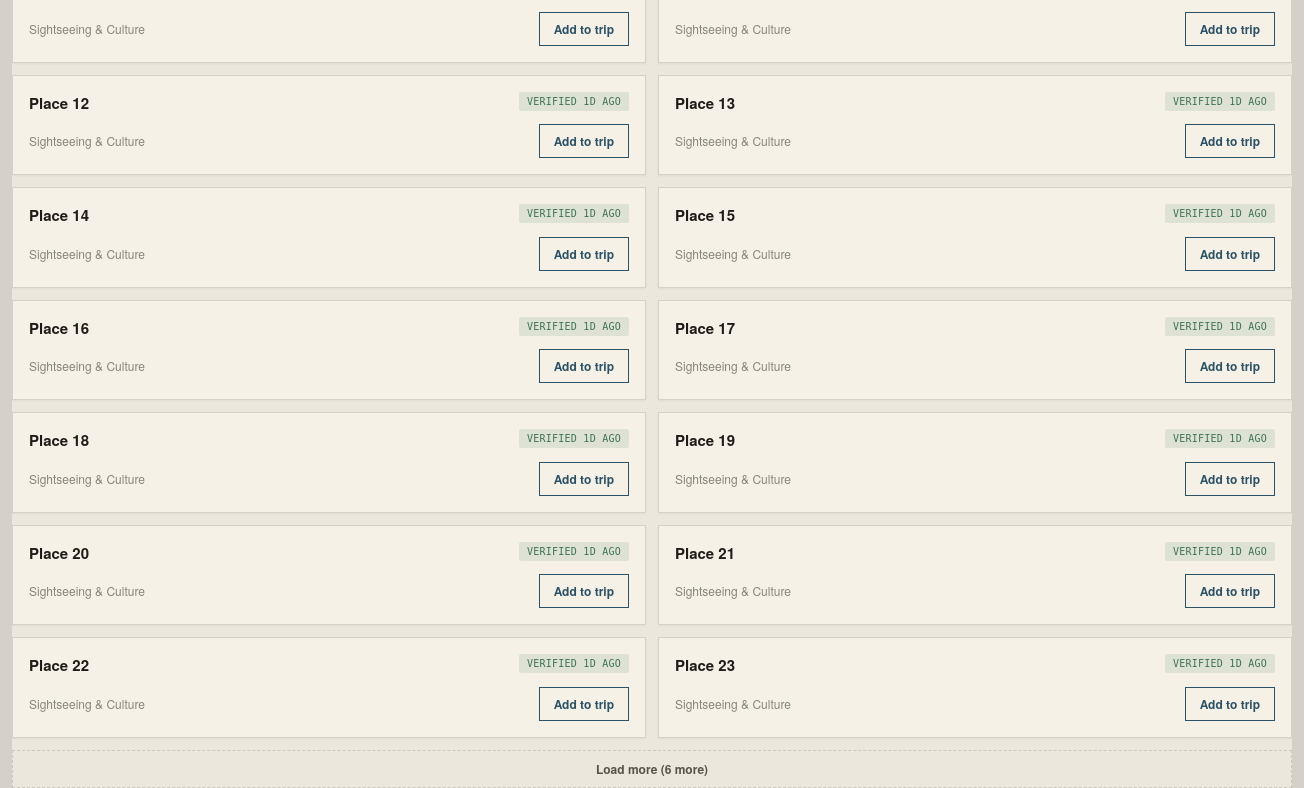
Scenario: DiscoverScreen › caps the initial render at a real page size and reveals the rest via Load more, rather than rendering everything at once
The image size is (1304, 788).
(page scrolled)
Expected: the text "Place 24" is not shown
Click the button "Load more (6 more)" at (652, 768), box x1=12 y1=750 x2=1292 y2=787
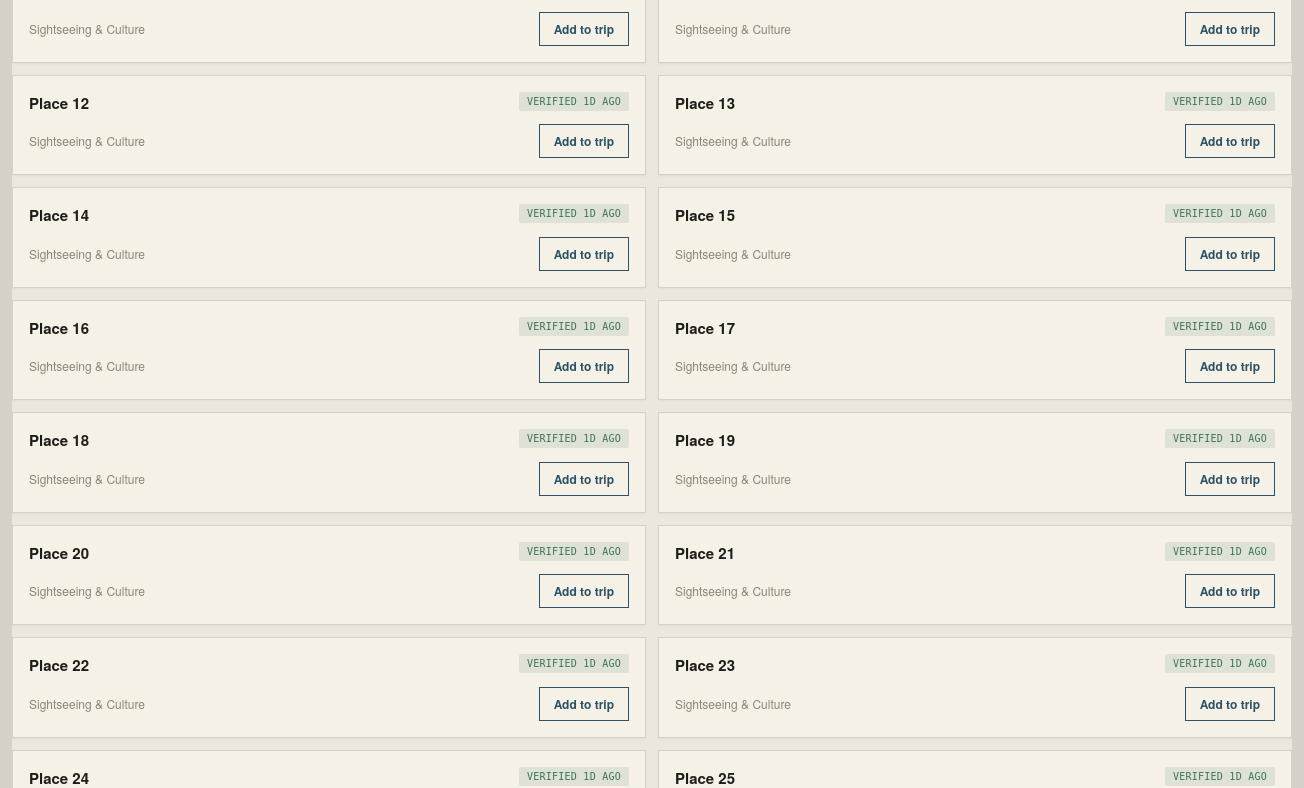
Now the button "Load more" is gone
